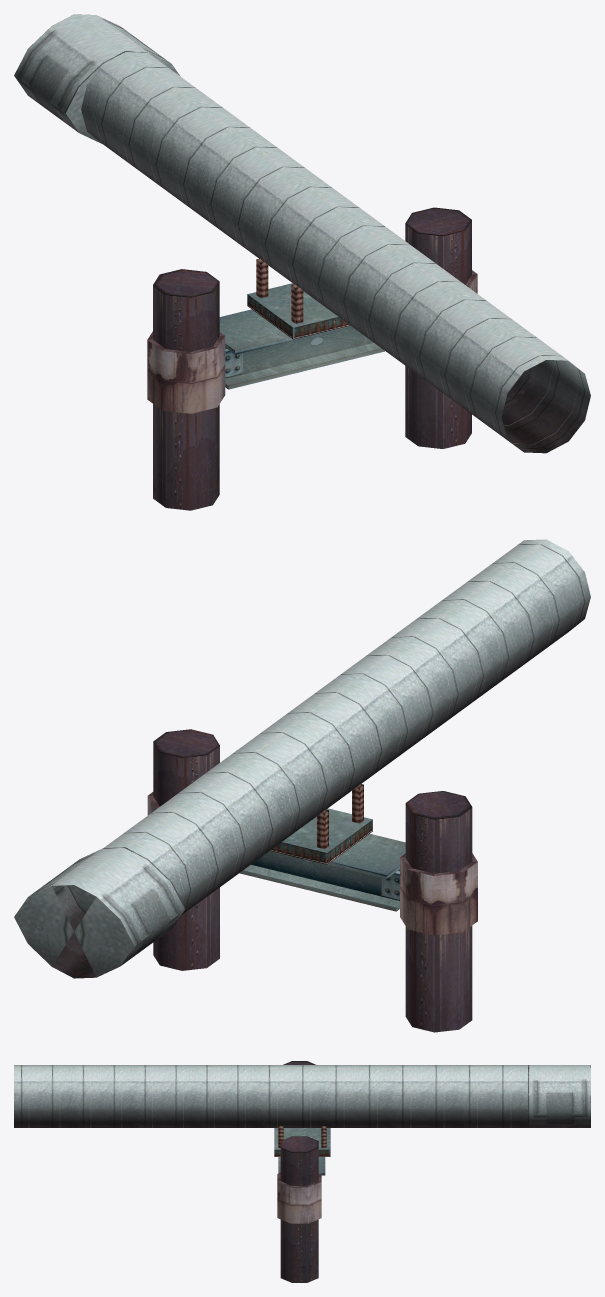
Rendered from pipes_low.fbx.
3 renders of one model, top to bottom at view 1: azimuth 30°, elevation 25°; view 2: azimuth 150°, elevation 25°; view 3: azimuth 270°, elevation 25°, orthographic. The views are drawn at different scales.
Visible parts, largest first — view 1: mesh_15, mesh_13, mesh_14, mesh_2, mesh_10, mesh_12, mesh_11; view 2: mesh_15, mesh_13, mesh_14, mesh_2, mesh_9, mesh_12, mesh_11; view 3: mesh_15, mesh_14, mesh_2.
Part boxes in pixels (<box>): mesh_15: <box>14,14,590,453</box>; mesh_13: <box>147,269,225,510</box>; mesh_14: <box>405,207,477,448</box>; mesh_2: <box>247,283,350,339</box>; mesh_10: <box>225,326,373,378</box>; mesh_12: <box>219,309,350,354</box>; mesh_11: <box>225,343,385,389</box>; mesh_15: <box>14,539,590,978</box>; mesh_13: <box>400,791,477,1032</box>; mesh_14: <box>147,729,219,970</box>; mesh_2: <box>270,808,372,864</box>; mesh_9: <box>251,851,399,900</box>; mesh_12: <box>327,834,405,878</box>; mesh_11: <box>239,865,399,911</box>; mesh_15: <box>14,1065,590,1127</box>; mesh_14: <box>277,1136,321,1282</box>; mesh_2: <box>274,1128,330,1156</box>.
Bounding box in the file's own units: 270 × 227 × 700.
Materials: 1 (1 with a texture image).
